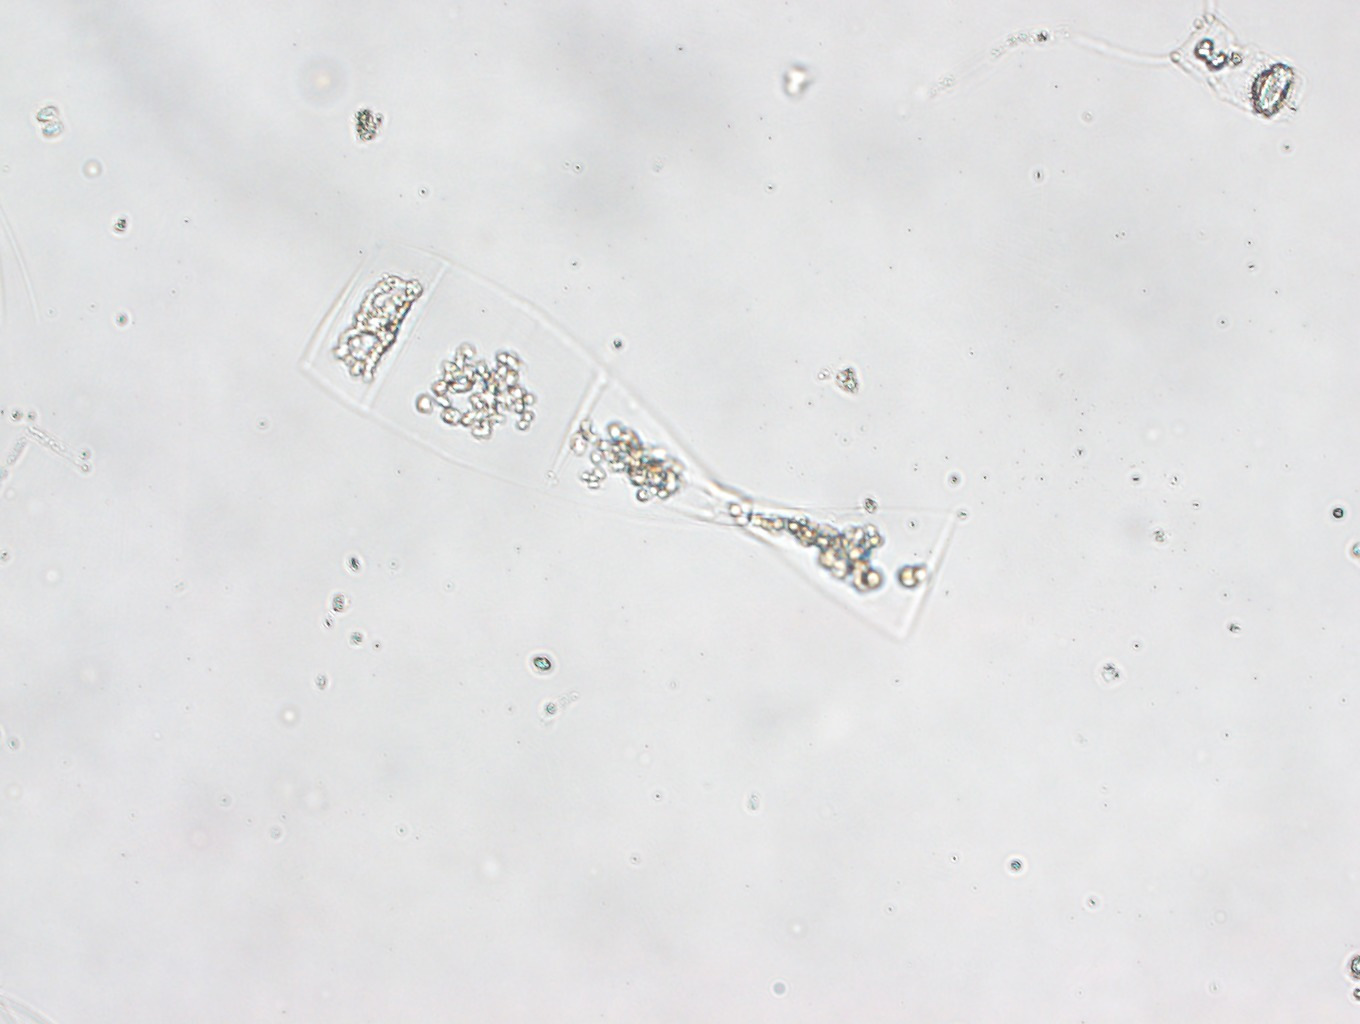helicotheca: (282, 226, 967, 651)
